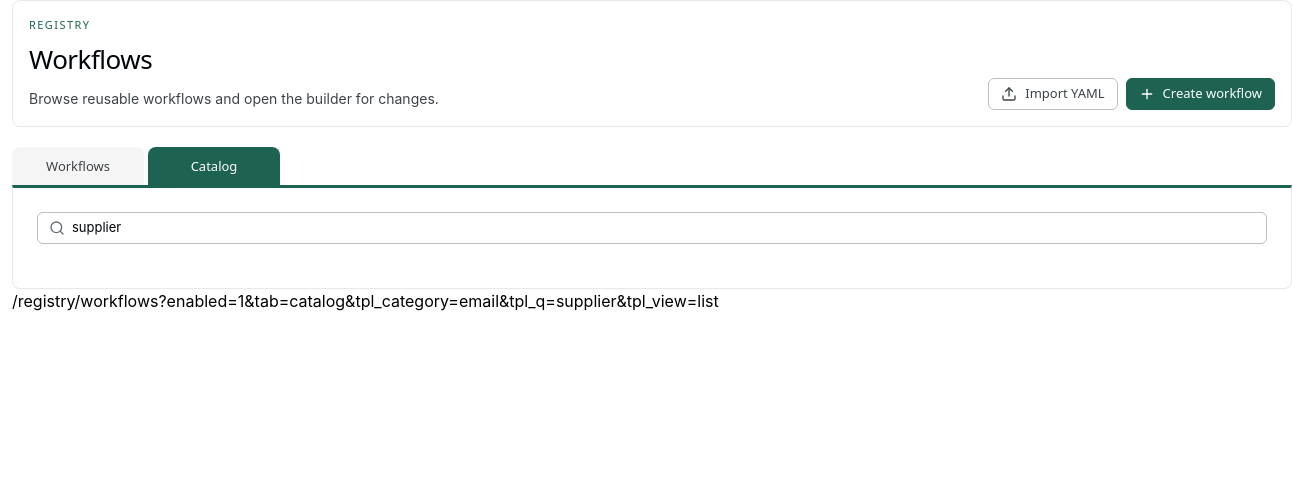
it: leaving the Catalog tab leaves no template parameters in the list URL
Click the tab "Workflows". click: (78, 166)
box: x1=12 y1=147 x2=144 y2=185
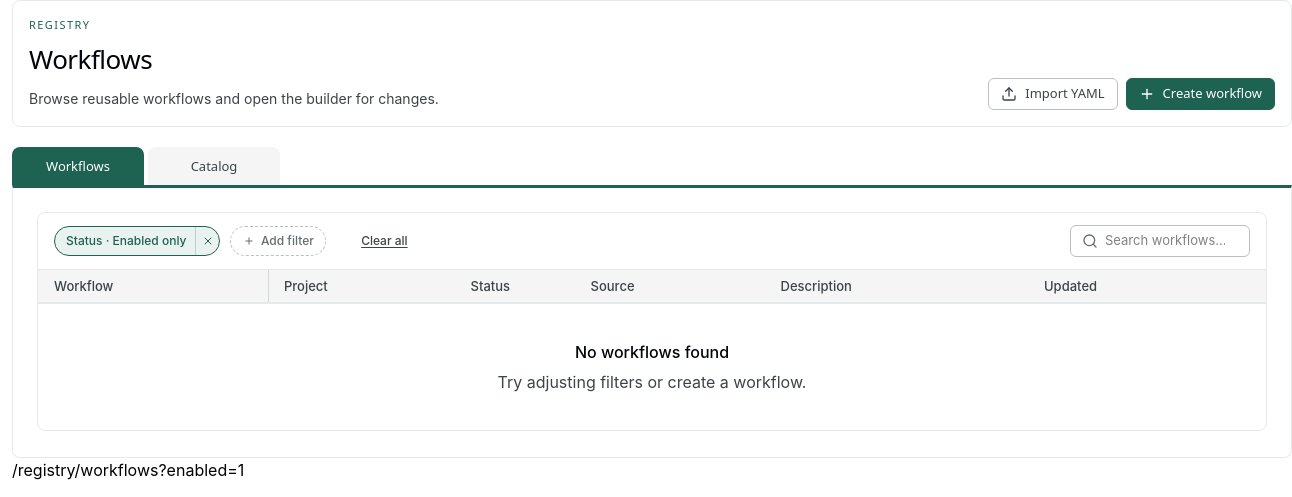
Check: the text with test id "location" reads "/registry/workflows?enabled=1", box x1=12 y1=460 x2=244 y2=480
Check: the text with test id "location" no longer shows "tpl", box x1=12 y1=460 x2=244 y2=480
